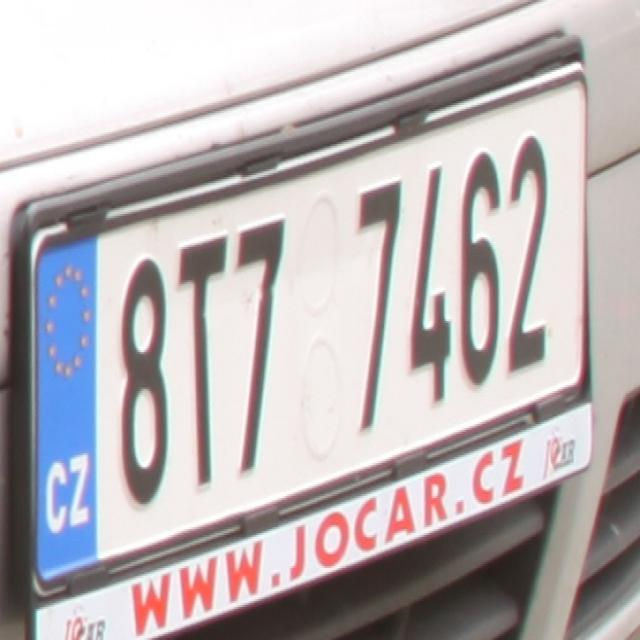2: (506, 132, 547, 374)
4: (410, 165, 454, 405)
6: (457, 148, 502, 384)
7: (355, 175, 403, 434), (237, 220, 280, 478)
8: (120, 257, 170, 502)
T: (175, 238, 227, 487)
